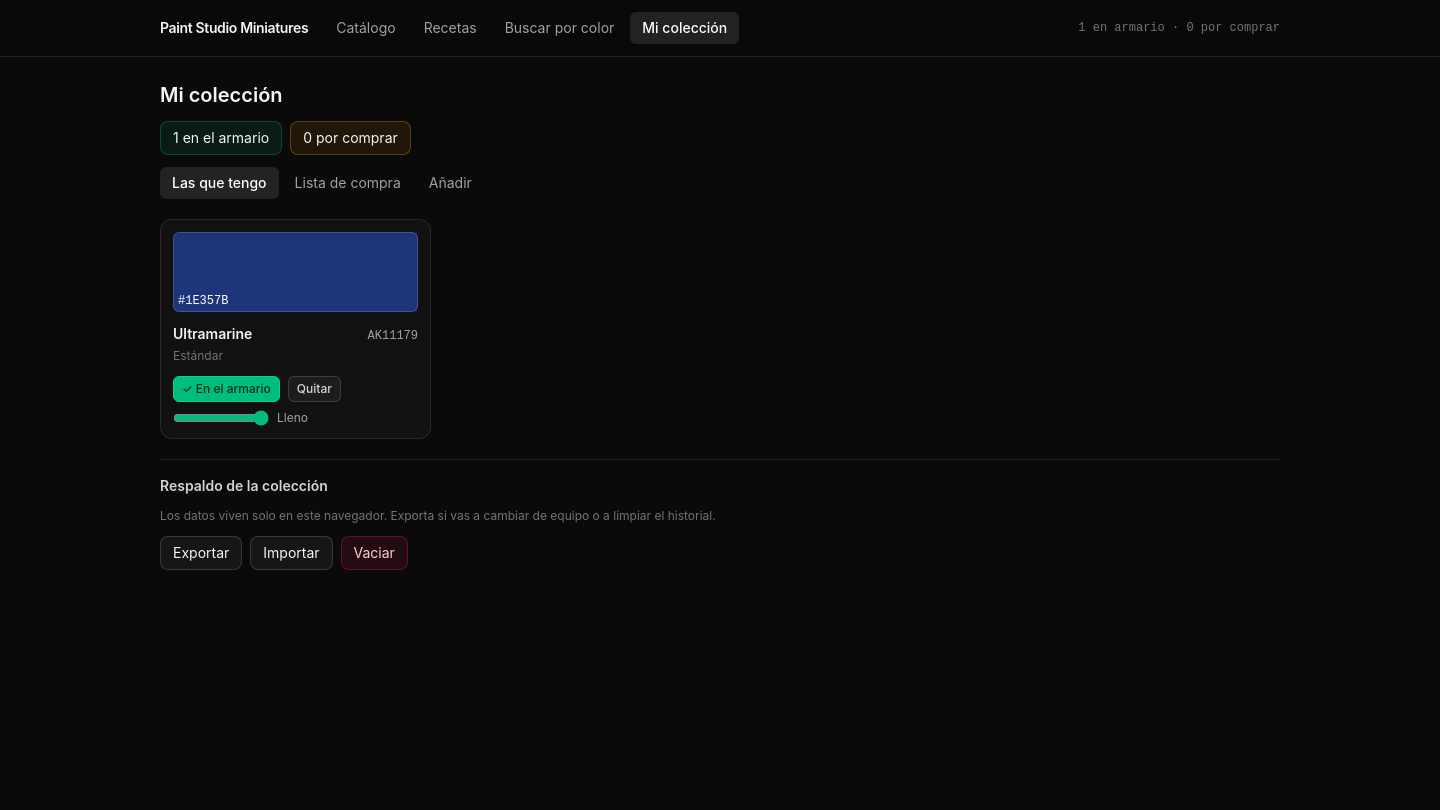
Test: registros borrados › quitar una pintura propia desde el armario la saca de las vistas y queda borrada
Expected: the text "La tengo" is not shown
Click the button "Quitar".
click(314, 389)  # box 288,376 -> 341,402
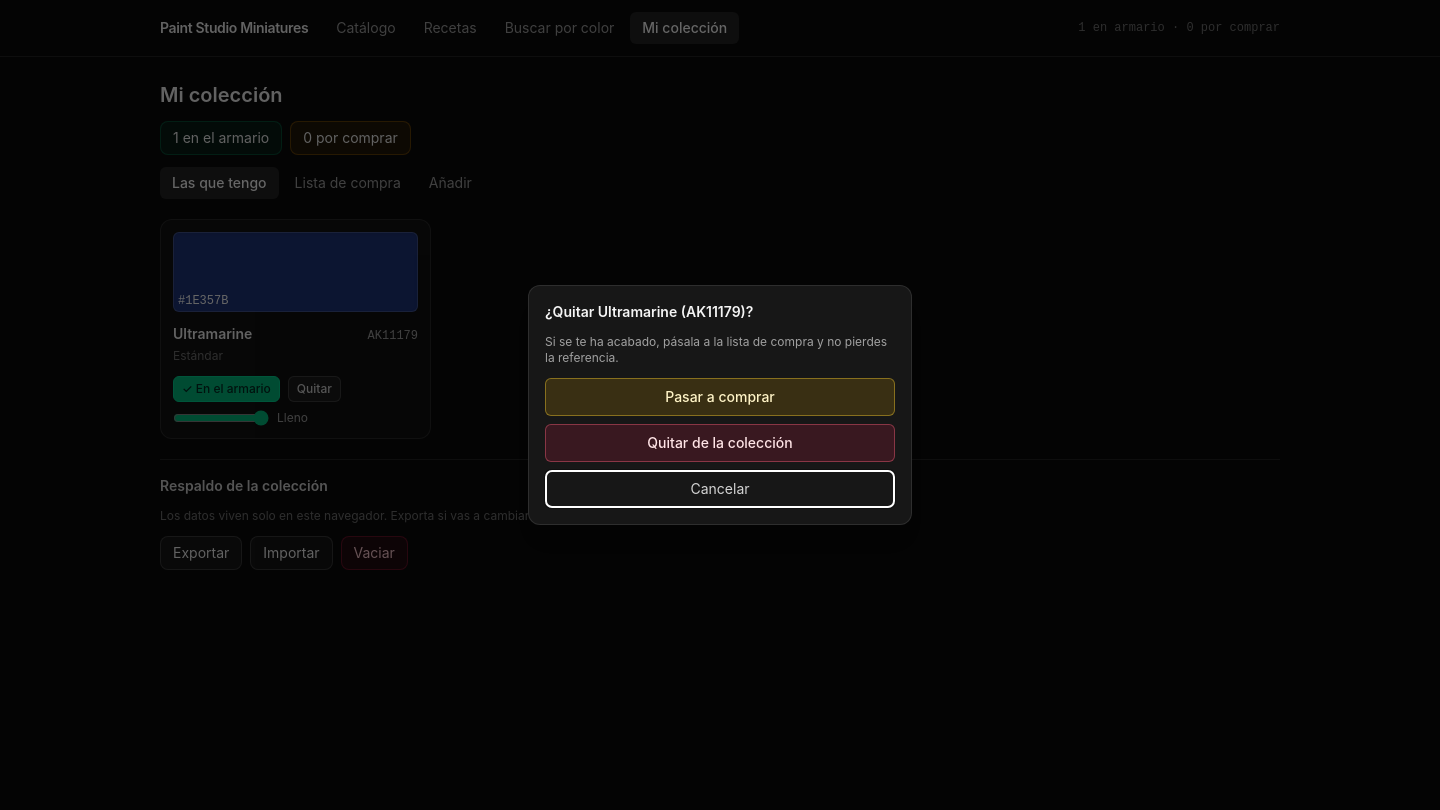
Expected: the dialog shows "¿Quitar Ultramarine (AK11179)?", 528,285 -> 912,525
Click the button "Quitar de la colección".
click(720, 443)  # box 545,424 -> 895,462
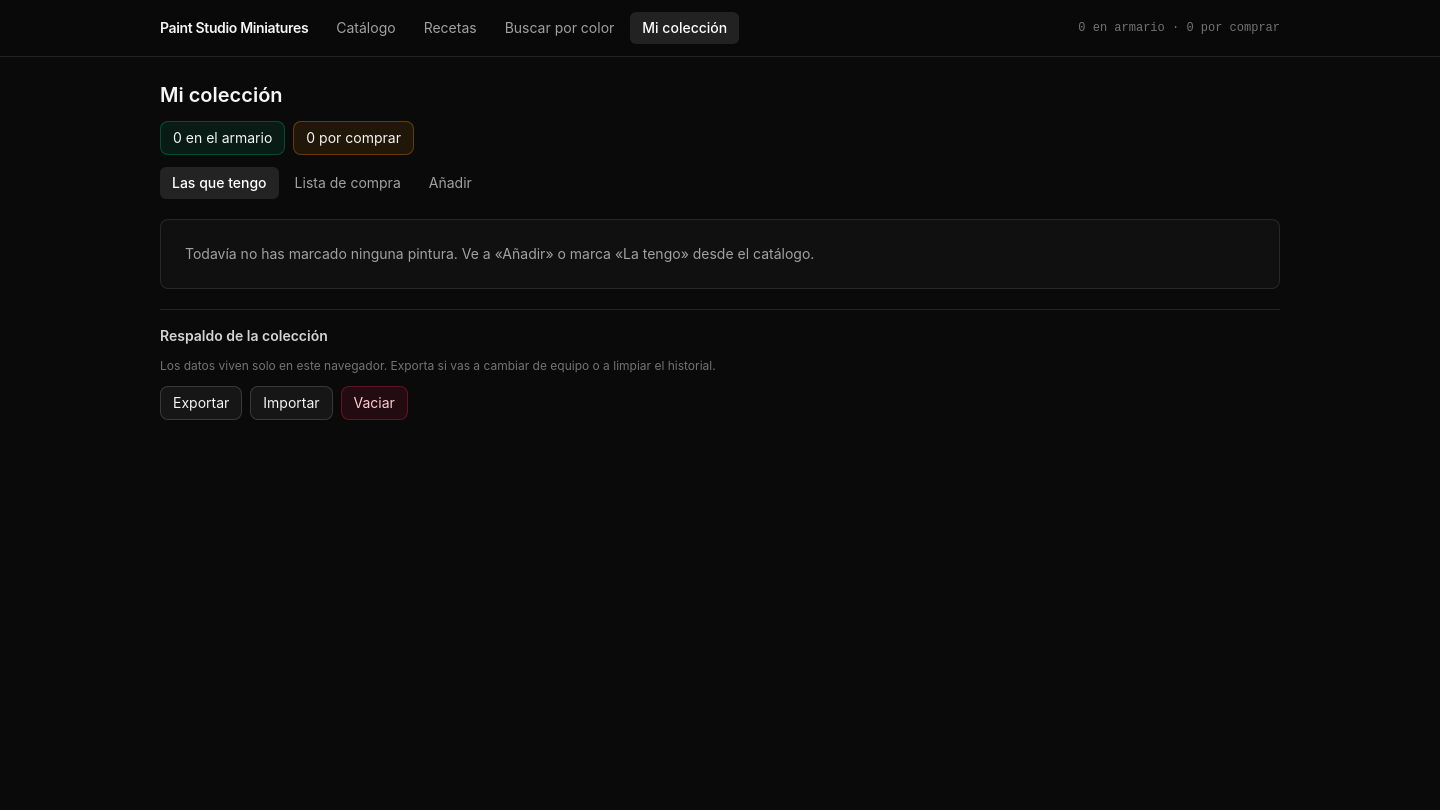
Expected: the dialog is gone
Expected: the text "0 en el armario" is shown, 160,121 -> 285,155
Expected: the text "Ultramarine" is gone
